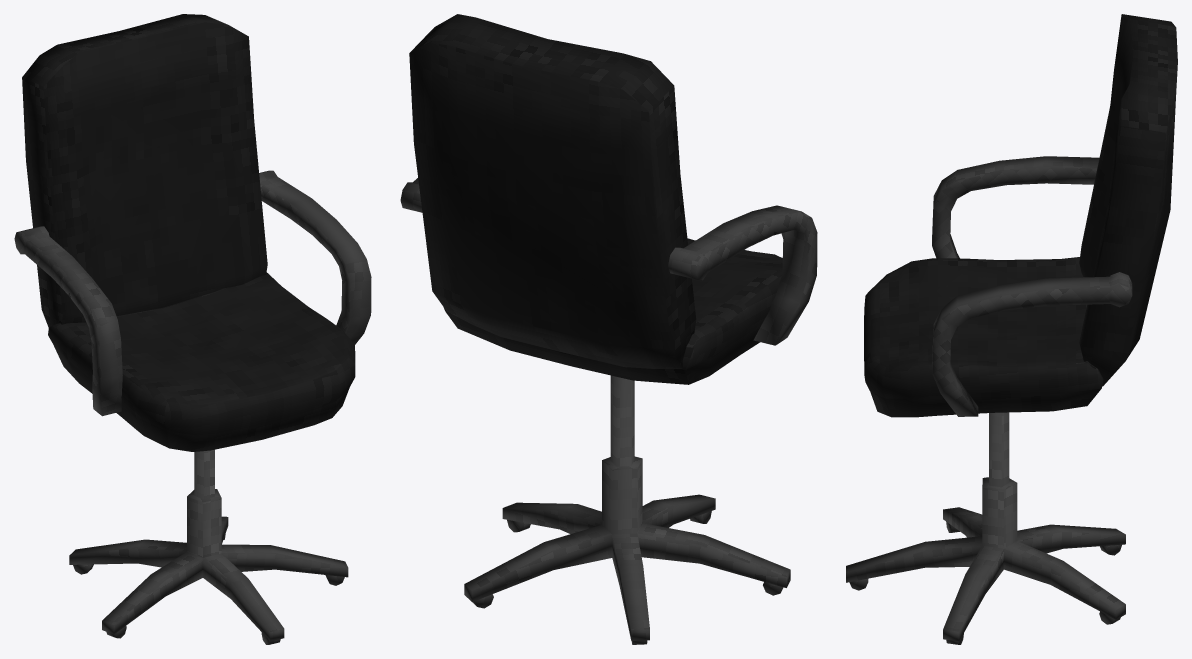
File: chair.glb
The picture shows the model from 3 angles, left to right: view 1: azimuth 30°, elevation 25°; view 2: azimuth 150°, elevation 25°; view 3: azimuth 270°, elevation 25°; orthographic projection. The views are drawn at different scales.
Parts seen in each view (by area): view 1: Basic Office Chair; view 2: Basic Office Chair; view 3: Basic Office Chair.
Part boxes in pixels (x1,y1,x2,y2): Basic Office Chair: [14, 14, 371, 644]; Basic Office Chair: [400, 14, 817, 644]; Basic Office Chair: [846, 14, 1177, 644].
Bounding box in the file's own units: 0.5139 × 0.9239 × 0.518.
Materials: 1 (1 with a texture image).
